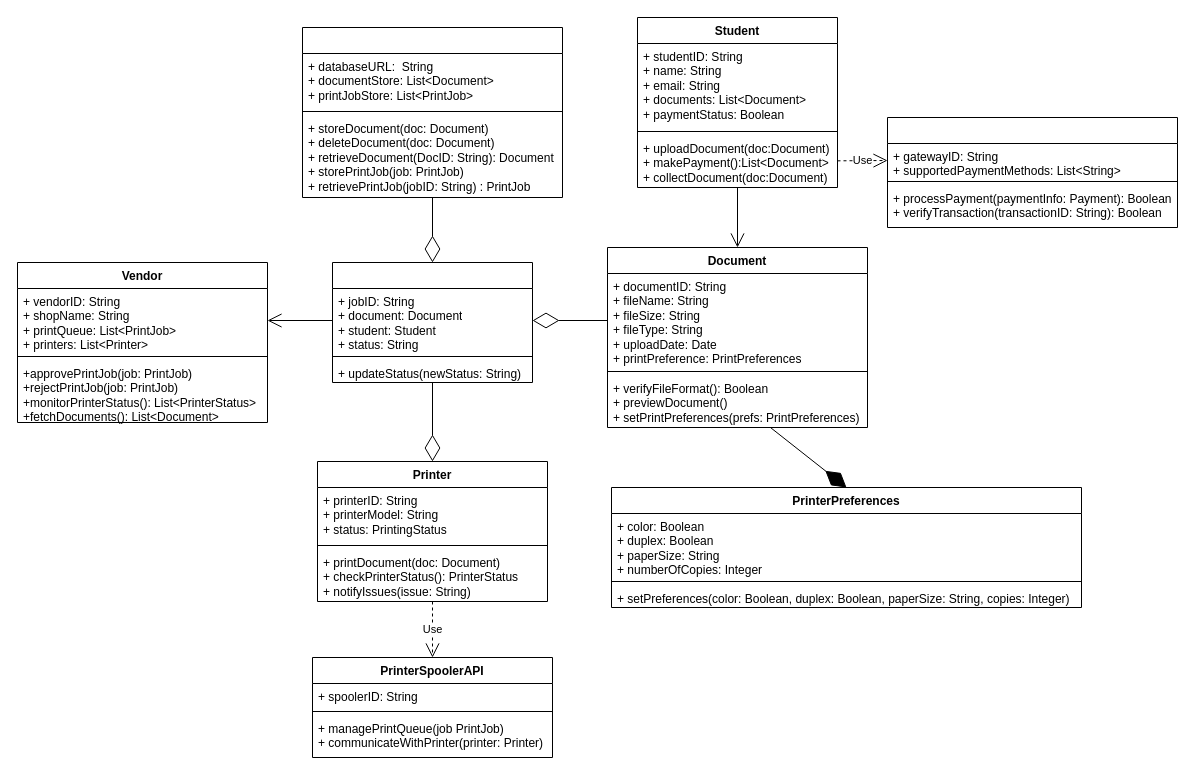
The diagram is 1195 pixels wide and 778 high, and some of its shapes have lost their labels. The shapes that lost their labels are listed below. From the top down, each one's box as (x1, y1, x2, y2) in pixels, then its label:
(302, 26, 562, 198): Cloudinary
(886, 116, 1178, 228): PaymentGateway
(332, 262, 532, 382): PrintJob
